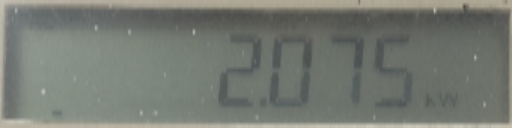0: (270, 33, 313, 106)
2: (217, 33, 260, 106)
5: (373, 30, 416, 103)
7: (324, 31, 367, 104)
d: (255, 91, 271, 109)
